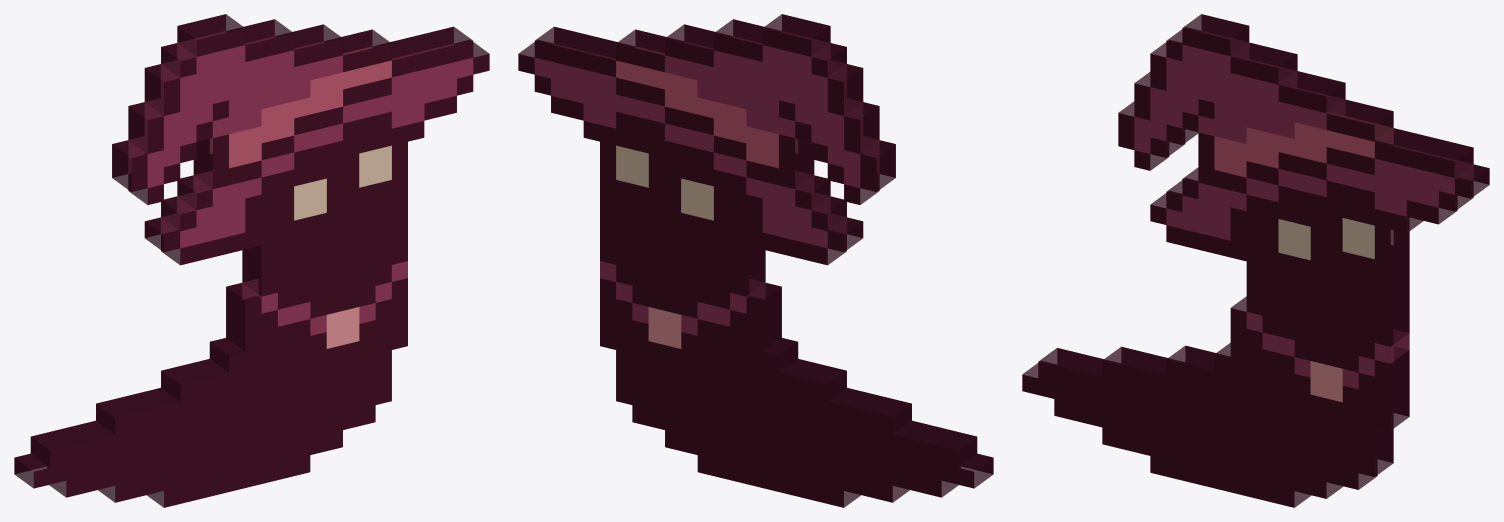
The model's file is slugBefore.glb.
The picture shows the model from 3 angles, left to right: view 1: azimuth 30°, elevation 25°; view 2: azimuth 150°, elevation 25°; view 3: azimuth 330°, elevation 25°; orthographic projection.
Visible parts, largest first — view 1: slug-col; view 2: slug-col; view 3: slug-col.
Boxes of the visible parts, box(x1,y1,x2,y2) form: slug-col: box(14, 14, 489, 507); slug-col: box(518, 14, 993, 507); slug-col: box(1022, 14, 1489, 507).
Bounding box in the file's own units: 0.875 × 0.8438 × 0.064.
Materials: 1 (1 with a texture image).
